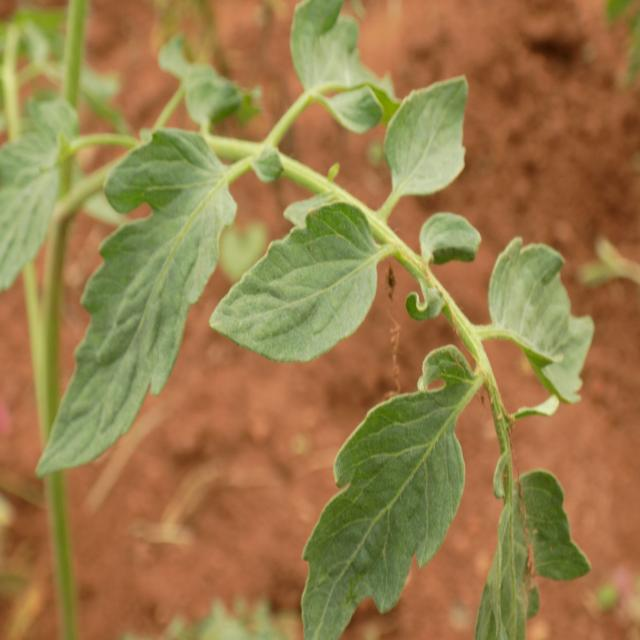tomato_healthy: (40, 126, 235, 477), (301, 391, 467, 640), (210, 202, 384, 364), (488, 235, 596, 406), (386, 74, 472, 196)
